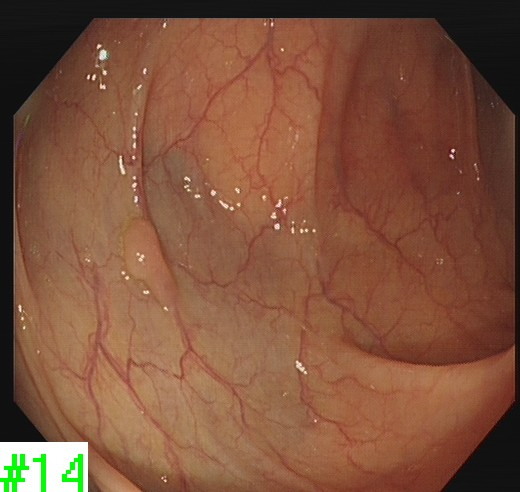adenoma: (121, 216, 168, 289)
